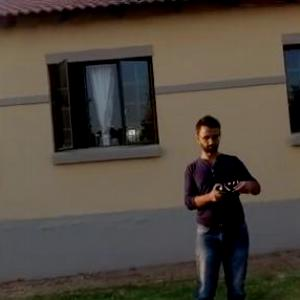follow: (176, 108, 270, 299)
